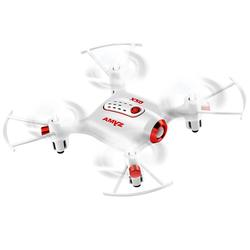drone: (1, 40, 250, 200)
